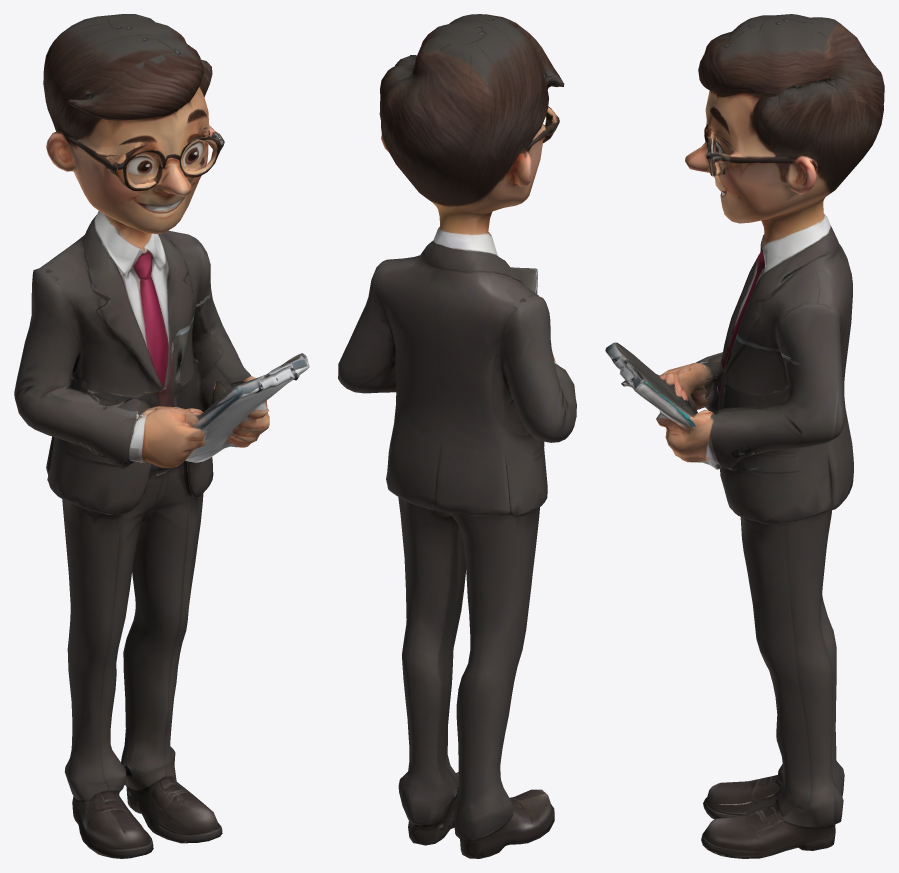
Rendered from manager.glb.
The picture shows the model from 3 angles, left to right: view 1: azimuth 30°, elevation 25°; view 2: azimuth 150°, elevation 25°; view 3: azimuth 270°, elevation 25°; orthographic projection.
Bounding box in the file's own units: 18294 × 65721 × 20661.
Materials: 1 (1 with a texture image).
